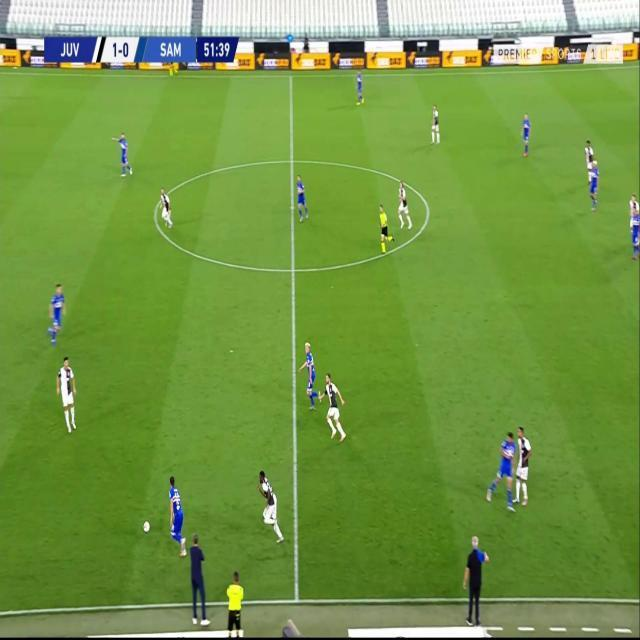ball: (143, 517, 151, 533)
player: (485, 426, 517, 512), (255, 468, 285, 546), (320, 370, 348, 443), (56, 354, 78, 434), (166, 473, 187, 556), (513, 422, 532, 508), (301, 341, 321, 411), (48, 278, 66, 345), (112, 131, 132, 177), (628, 190, 639, 263), (396, 180, 412, 230), (156, 186, 174, 229), (294, 172, 309, 222), (588, 156, 601, 210), (584, 138, 597, 184), (521, 111, 532, 157), (429, 103, 440, 145), (355, 71, 366, 105)
referee: (225, 567, 245, 638), (377, 202, 394, 253)
